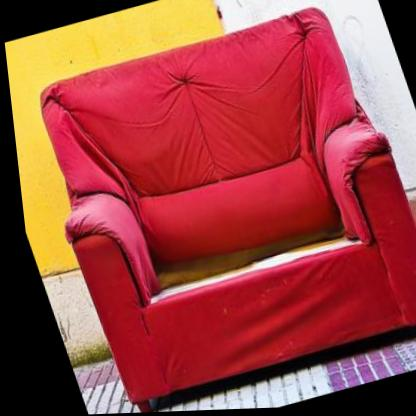Sofa: (9, 0, 416, 416)
